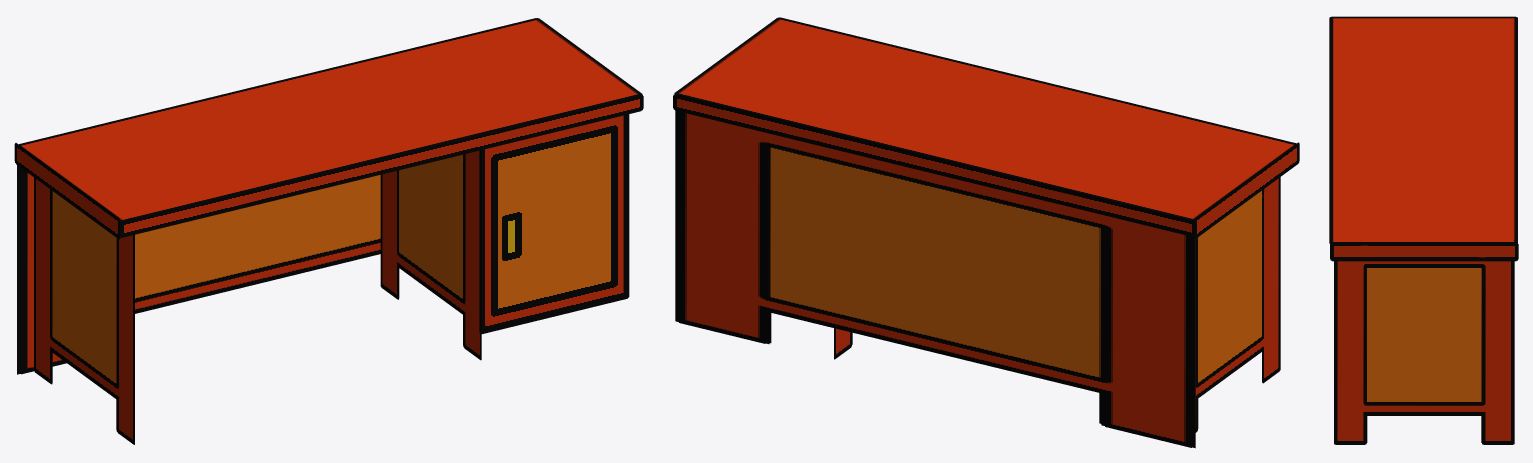
The model's file is computer table.gltf.
3 views of the same model, side by side, from view 1: azimuth 30°, elevation 25°; view 2: azimuth 150°, elevation 25°; view 3: azimuth 270°, elevation 25° (orthographic). The views are drawn at different scales.
Parts seen in each view (by area): view 1: default; view 2: default; view 3: default.
Boxes of the visible parts, bbox=[...] form: default: bbox=[14, 18, 643, 444]; default: bbox=[673, 17, 1299, 448]; default: bbox=[1329, 16, 1518, 444].
Size of the model in its own units: 49.34 by 20.91 by 17.31.
1 material, 1 textured.
